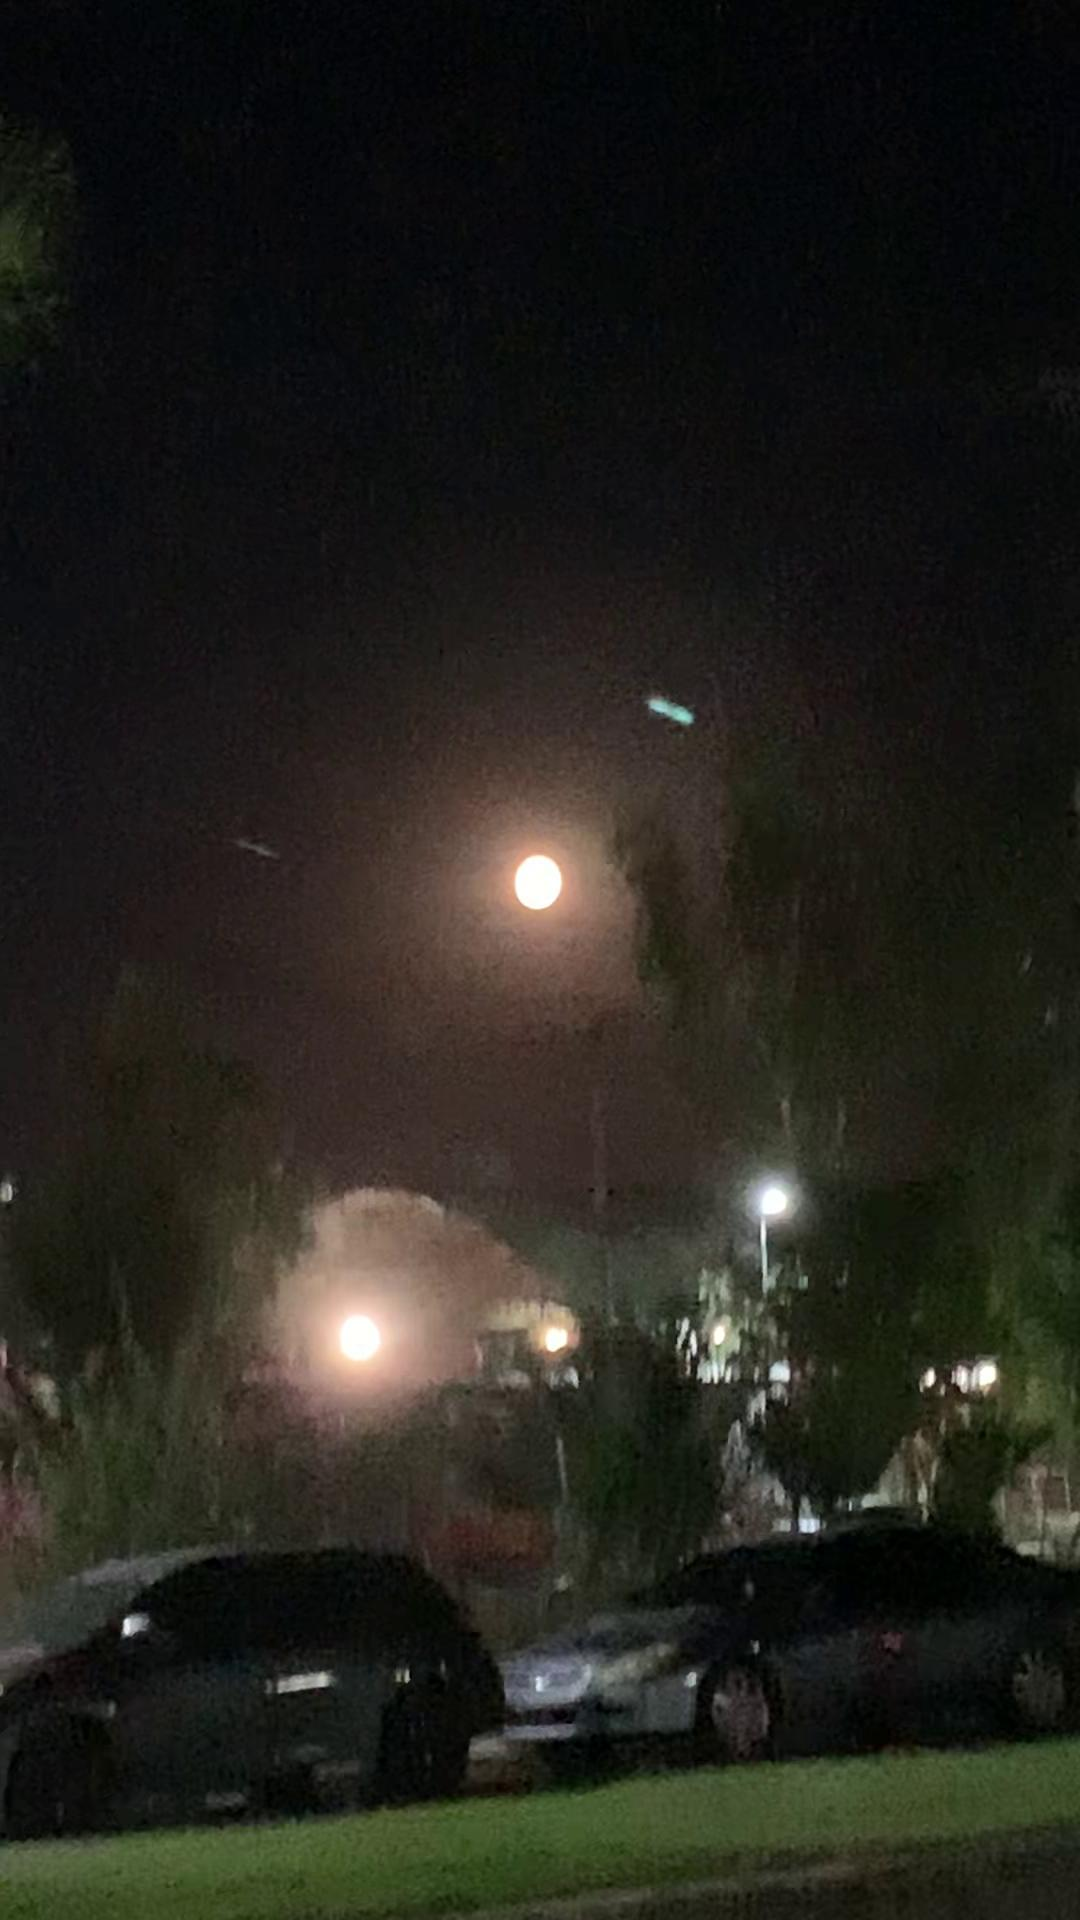moon: (503, 819, 592, 895)
